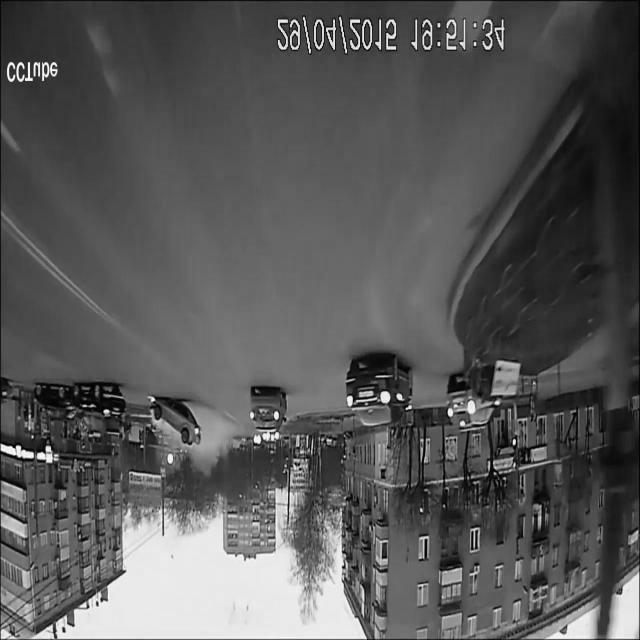severe: (146, 392, 204, 454)
